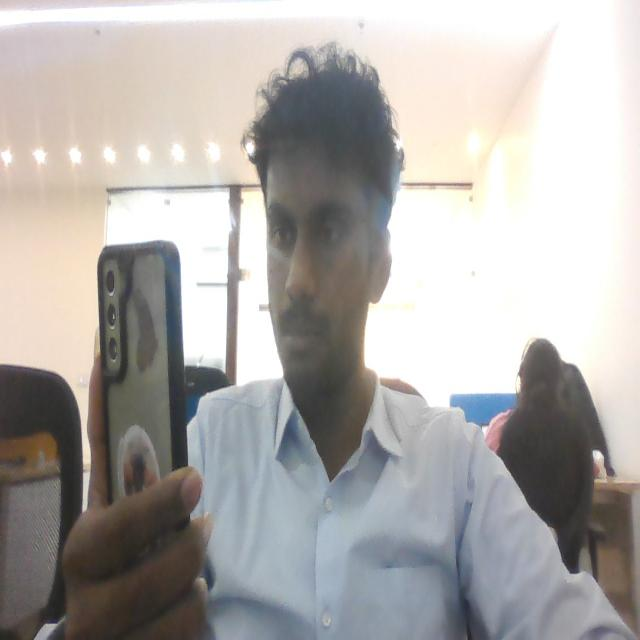phone: (95, 237, 181, 477)
